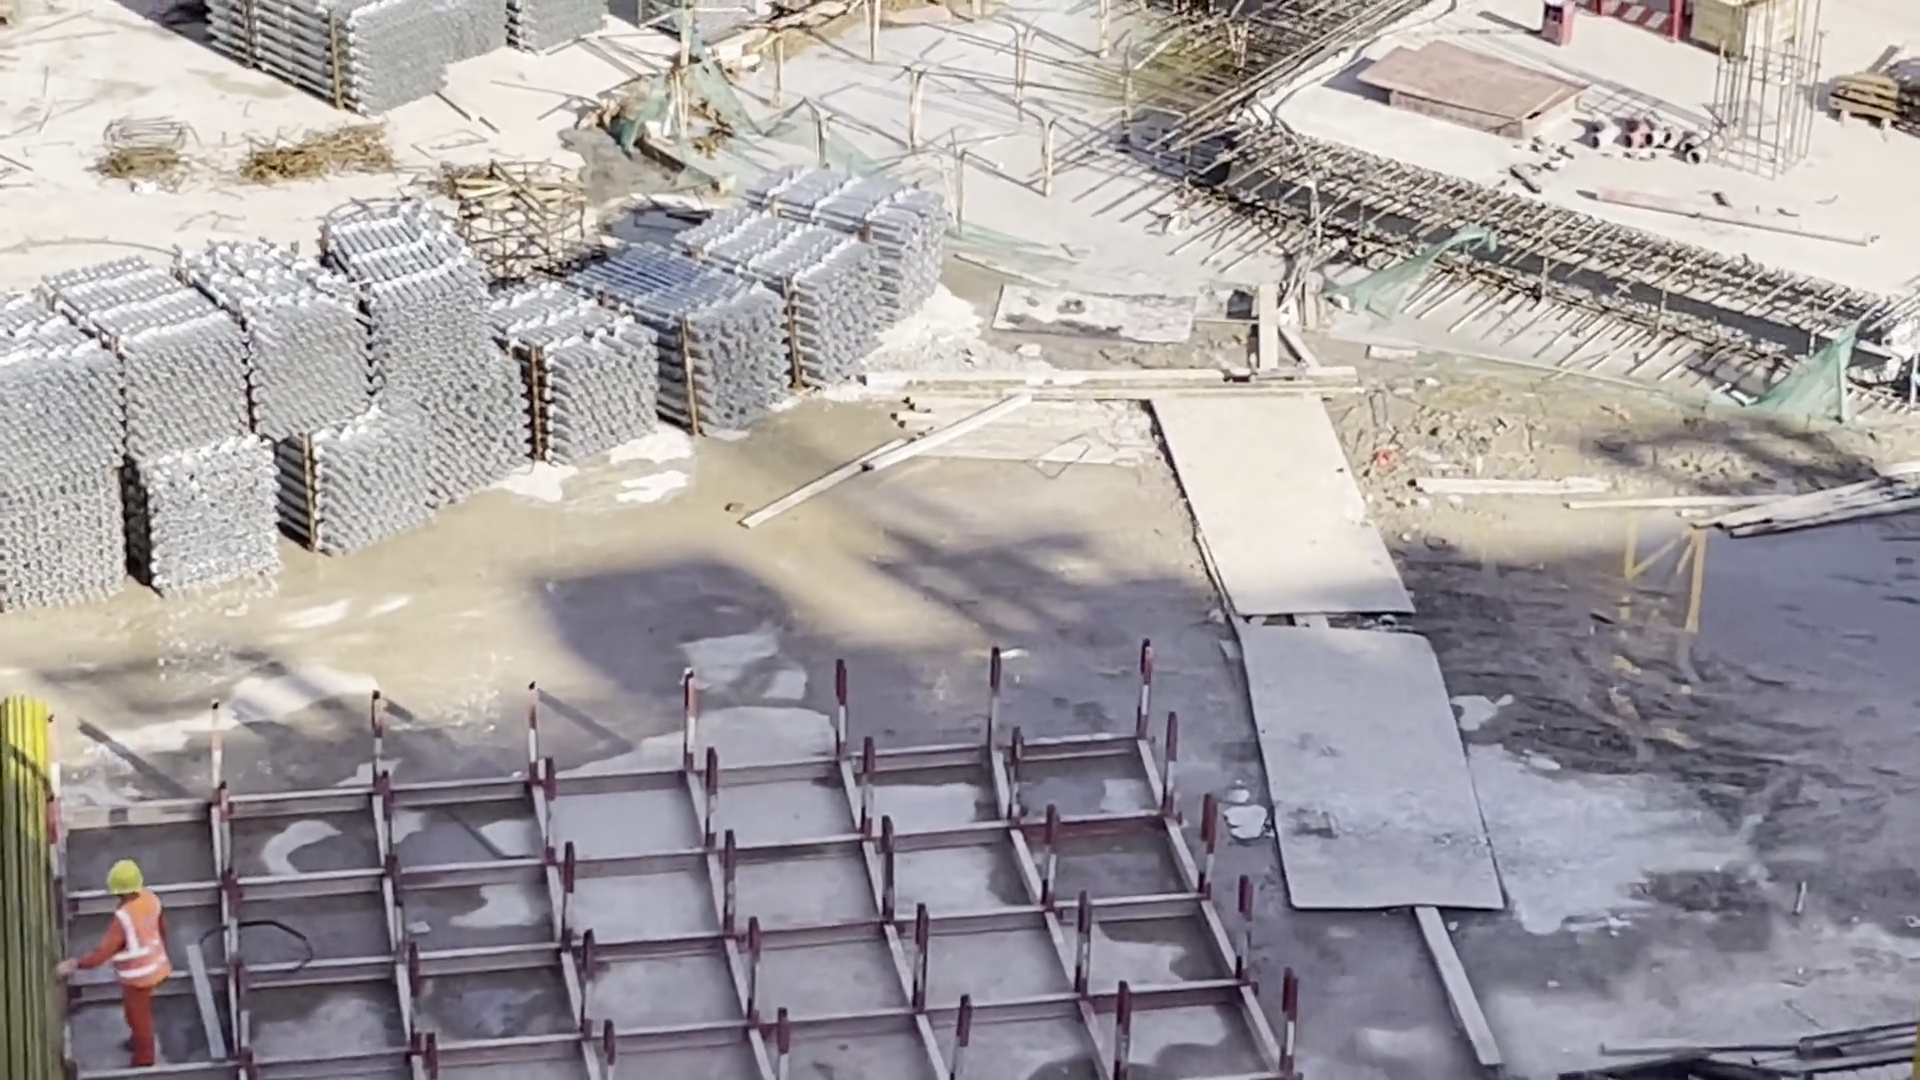board: (1352, 33, 1595, 138)
helmet: (89, 858, 146, 890)
person: (96, 858, 189, 1069)
scaffold: (1, 177, 943, 609), (239, 1, 463, 111)
vest: (101, 893, 179, 989)
